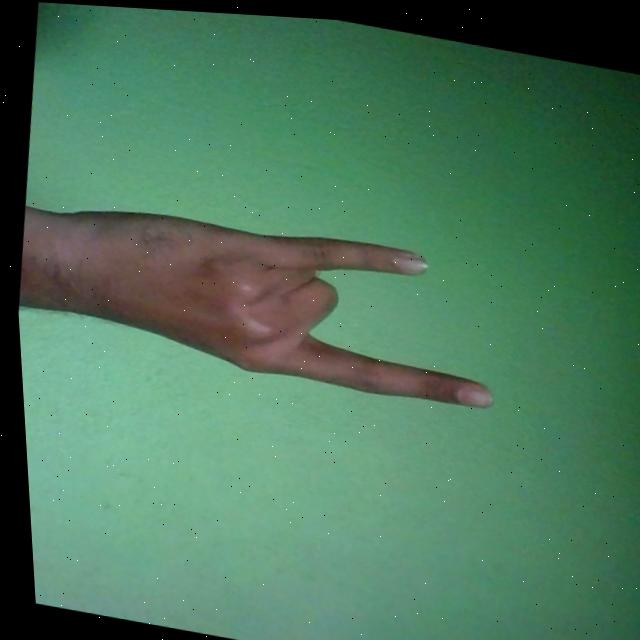Rock On: (27, 182, 506, 410)
